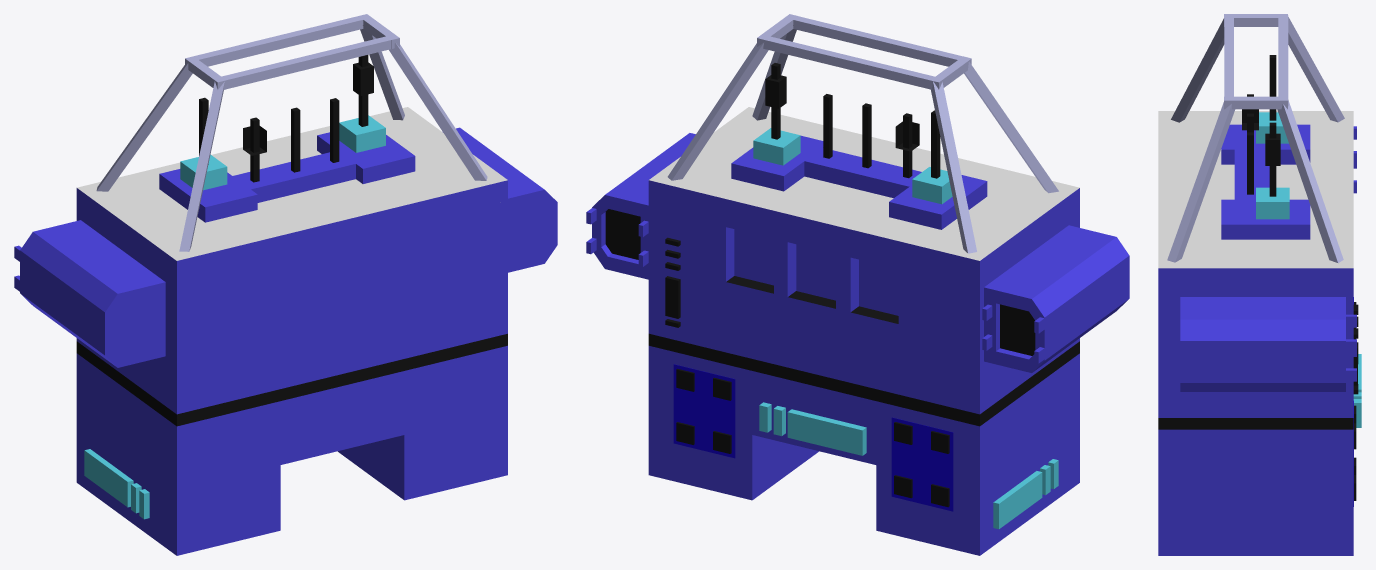
The model's file is boss.glb.
The picture shows the model from 3 angles, left to right: view 1: azimuth 30°, elevation 25°; view 2: azimuth 150°, elevation 25°; view 3: azimuth 270°, elevation 25°; orthographic projection. The views are drawn at different scales.
Parts seen in each view (by area): view 1: boss; view 2: boss; view 3: boss.
Boxes of the visible parts, x1,y1,x2,y2 form: boss: [14, 14, 557, 555]; boss: [586, 14, 1129, 555]; boss: [1158, 14, 1361, 555].
Size of the model in its own units: 5.22 by 4.75 by 2.08.
